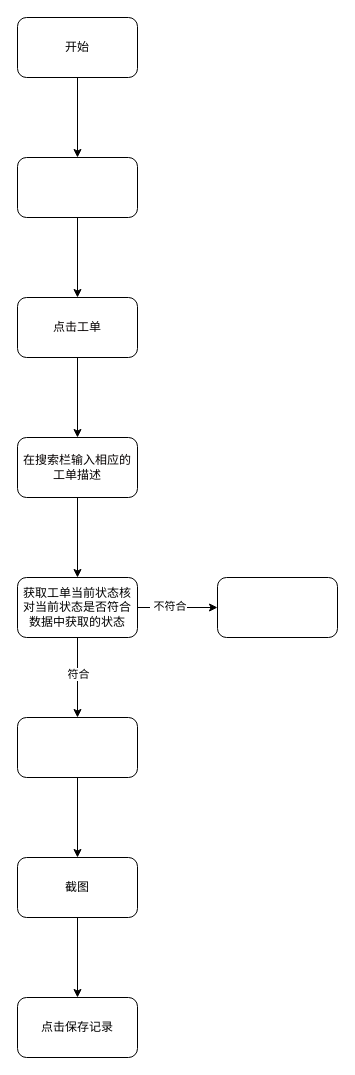
This 355x1075 diagram has some shape labels left out. Each missing label, with the centre of its shape:
将工单状态修改为目标状态: the point at 77,747
当条数据至未异常: the point at 277,607
点击工作: the point at 77,187
